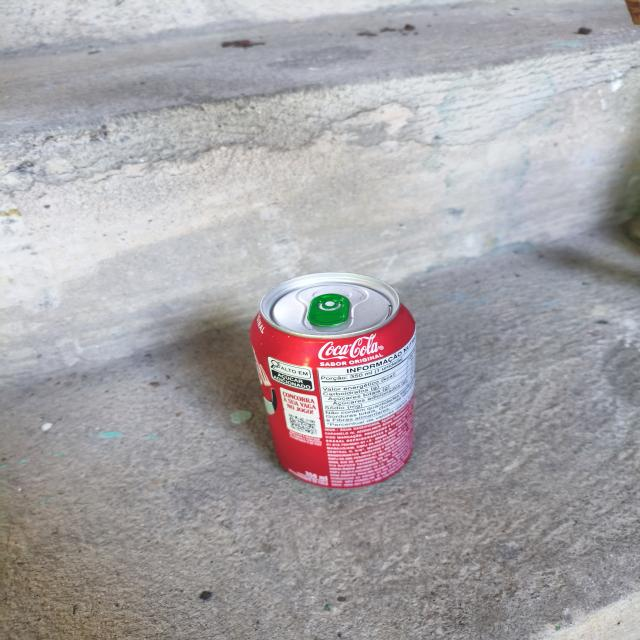Coca Cola: (242, 251, 456, 501)
